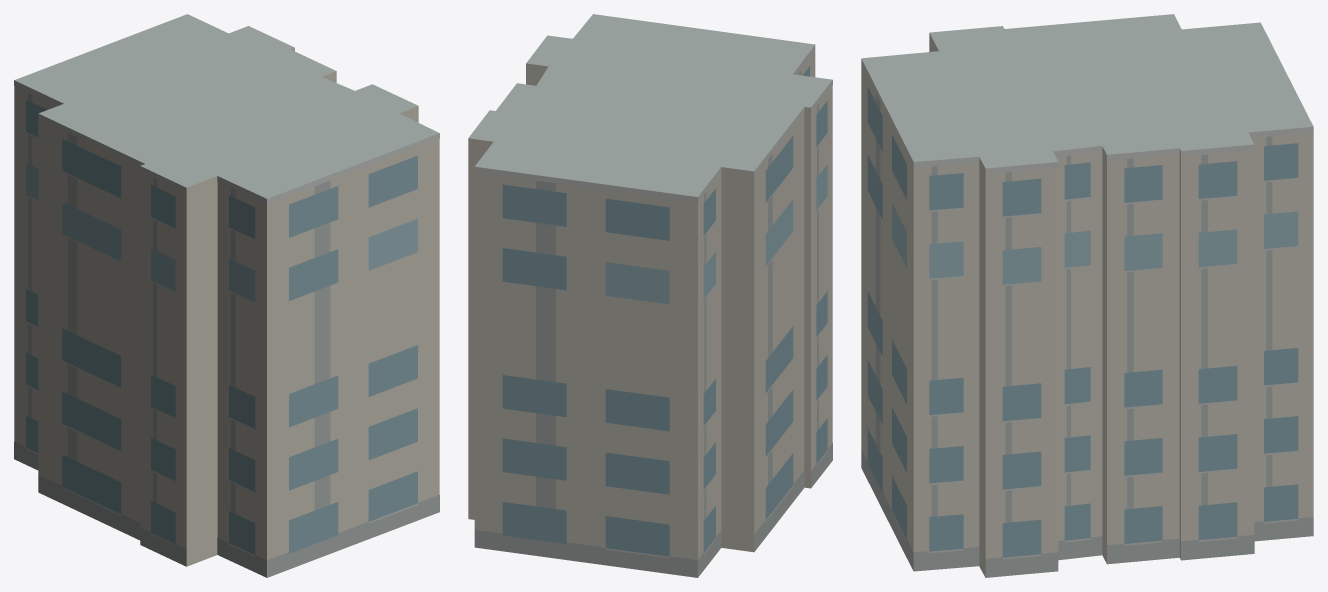
Rendered from survey-upis-32709159.glb.
3 renders of one model, left to right at view 1: azimuth 30°, elevation 25°; view 2: azimuth 150°, elevation 25°; view 3: azimuth 270°, elevation 25°, orthographic. The views are drawn at different scales.
Visible parts, largest first — view 1: survey-upis-32709159.tmp; view 2: survey-upis-32709159.tmp; view 3: survey-upis-32709159.tmp.
Boxes of the visible parts, x1=… form: survey-upis-32709159.tmp: x1=14, y1=14, x2=439, y2=577; survey-upis-32709159.tmp: x1=468, y1=14, x2=832, y2=577; survey-upis-32709159.tmp: x1=861, y1=14, x2=1313, y2=577.
Size of the model in its own units: 13.37 by 16.5 by 16.53.
